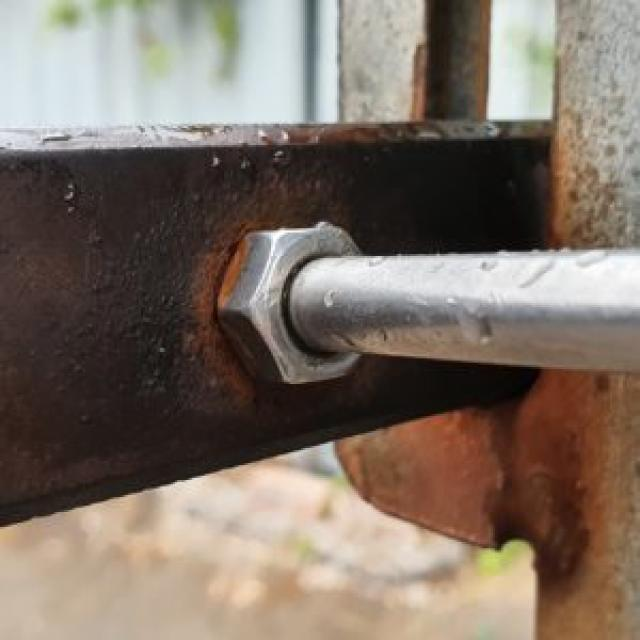bolt nut: (215, 218, 380, 392)
